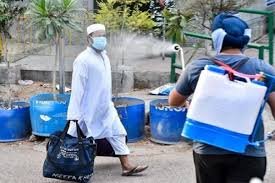mask: (87, 23, 106, 51)
